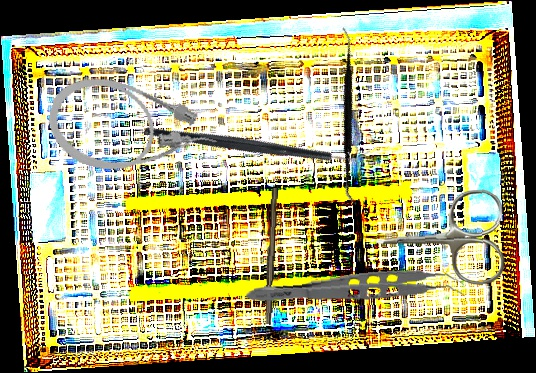Cannula: (39, 66, 225, 198)
Chopper: (143, 52, 371, 232)
Iris Scissors: (373, 188, 506, 289)
Scalpel Handle: (263, 187, 278, 325)
Spatula Surgical: (268, 25, 431, 207)
Tissue Forceps: (244, 262, 466, 321)
